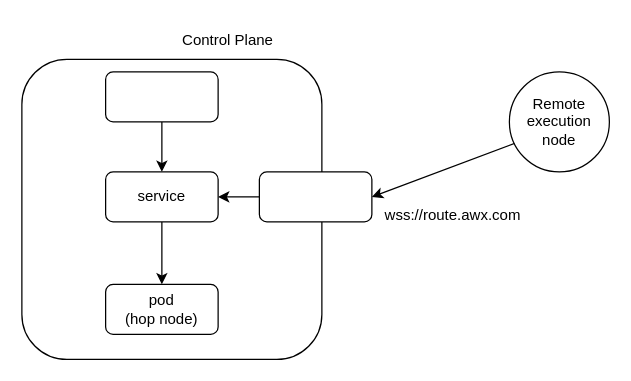
This 631x381 diagram has some shape labels left out. The box of each missing label's shape, as (x1, y1, x2, y2) in pixels:
awx-task: (104, 71, 218, 122)
route (if needed): (258, 171, 372, 222)
